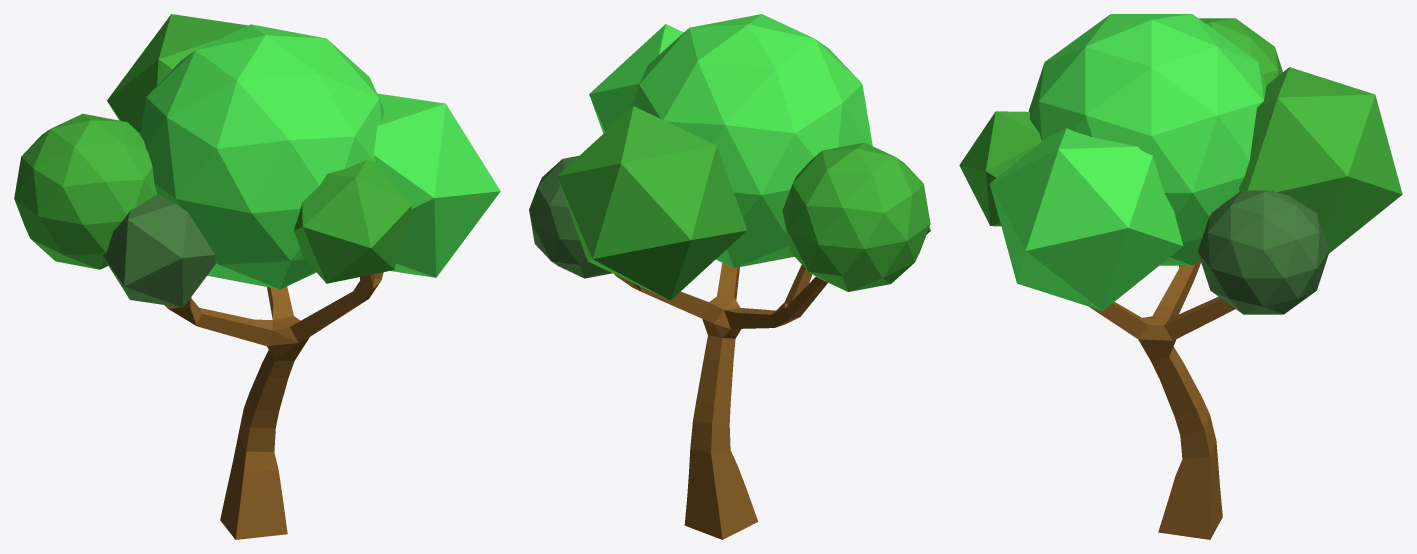
File: LPtree4.fbx
The picture shows the model from 3 angles, left to right: view 1: azimuth 30°, elevation 25°; view 2: azimuth 150°, elevation 25°; view 3: azimuth 270°, elevation 25°; orthographic projection. The views are drawn at different scales.
Visible parts, largest first — view 1: Icosphere.004, Icosphere.005, Icosphere.002, Cube, Icosphere, Icosphere.006, Icosphere.001; view 2: Icosphere.004, Icosphere.001, Icosphere.005, Cube, Icosphere.003, Icosphere.002; view 3: Icosphere.004, Icosphere.002, Icosphere.001, Icosphere.003, Cube, Icosphere, Icosphere.005.
Boxes of the visible parts, x1,y1,x2,y2 form: Icosphere.004: (140,24,384,289); Icosphere.005: (14,113,157,269); Icosphere.002: (373,93,500,277); Cube: (164,272,383,539); Icosphere: (293,160,412,283); Icosphere.006: (103,194,215,307); Icosphere.001: (107,14,248,133); Icosphere.004: (630,14,872,267); Icosphere.001: (557,106,747,300); Icosphere.005: (782,142,930,291); Cube: (614,263,827,539); Icosphere.003: (529,156,612,278); Icosphere.002: (589,24,683,133); Icosphere.004: (1028,14,1266,265); Icosphere.002: (989,128,1183,310); Icosphere.001: (1239,67,1402,253); Icosphere.003: (1198,190,1329,314); Cube: (1089,260,1235,539); Icosphere: (959,111,1041,226); Icosphere.005: (1199,18,1282,85).
Size of the model in its own units: 1631 by 2057 by 1644.
